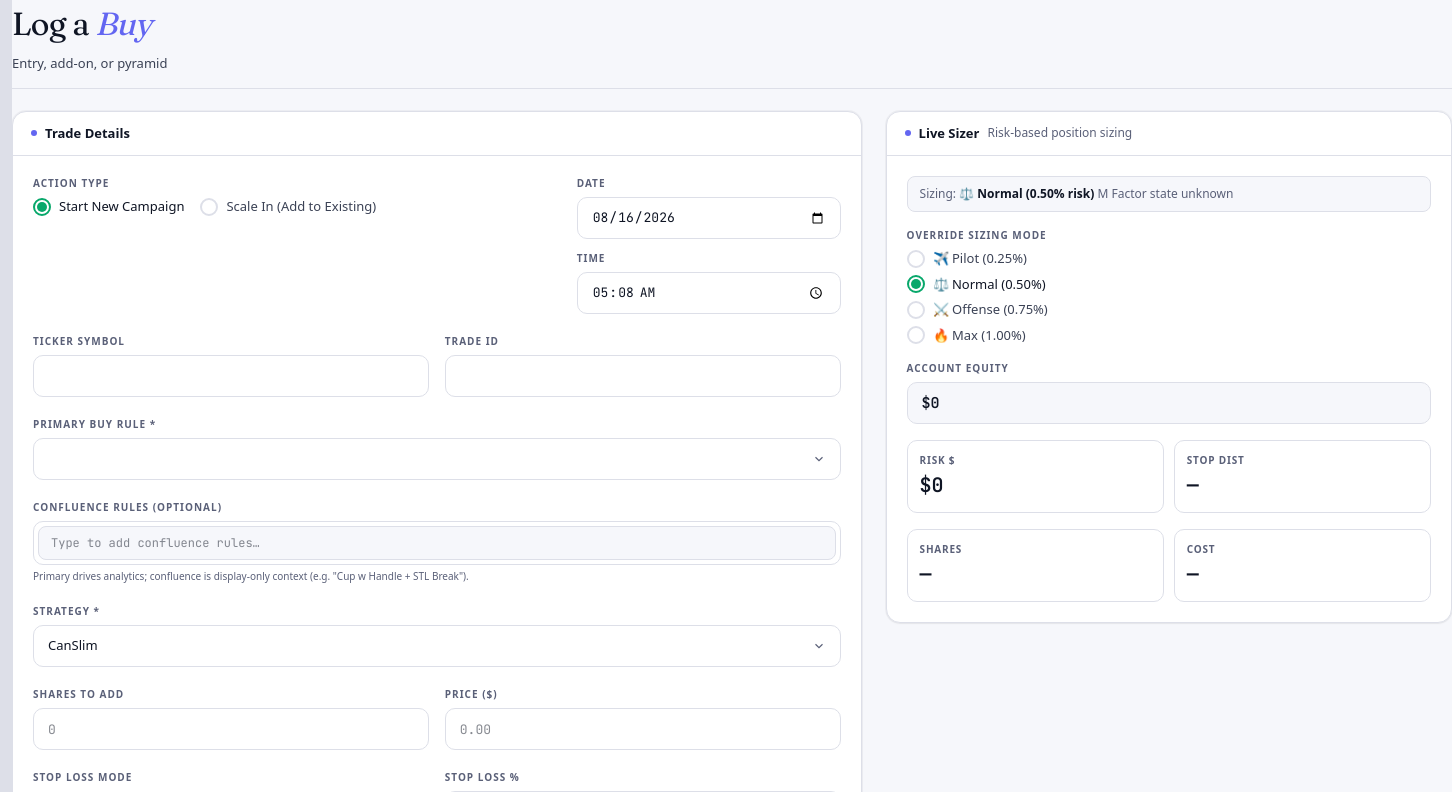
it: LogBuy — read-only MCT-driven sizing mode › 'Reset to MCT' restores the auto-derived mode
The width and height of the screenshot is (1452, 792).
Override to Pilot first (was Defense pre-retier)
Click the text "✈️ Pilot (0.25%)". click: (980, 259)
box: [933,249,1027,268]
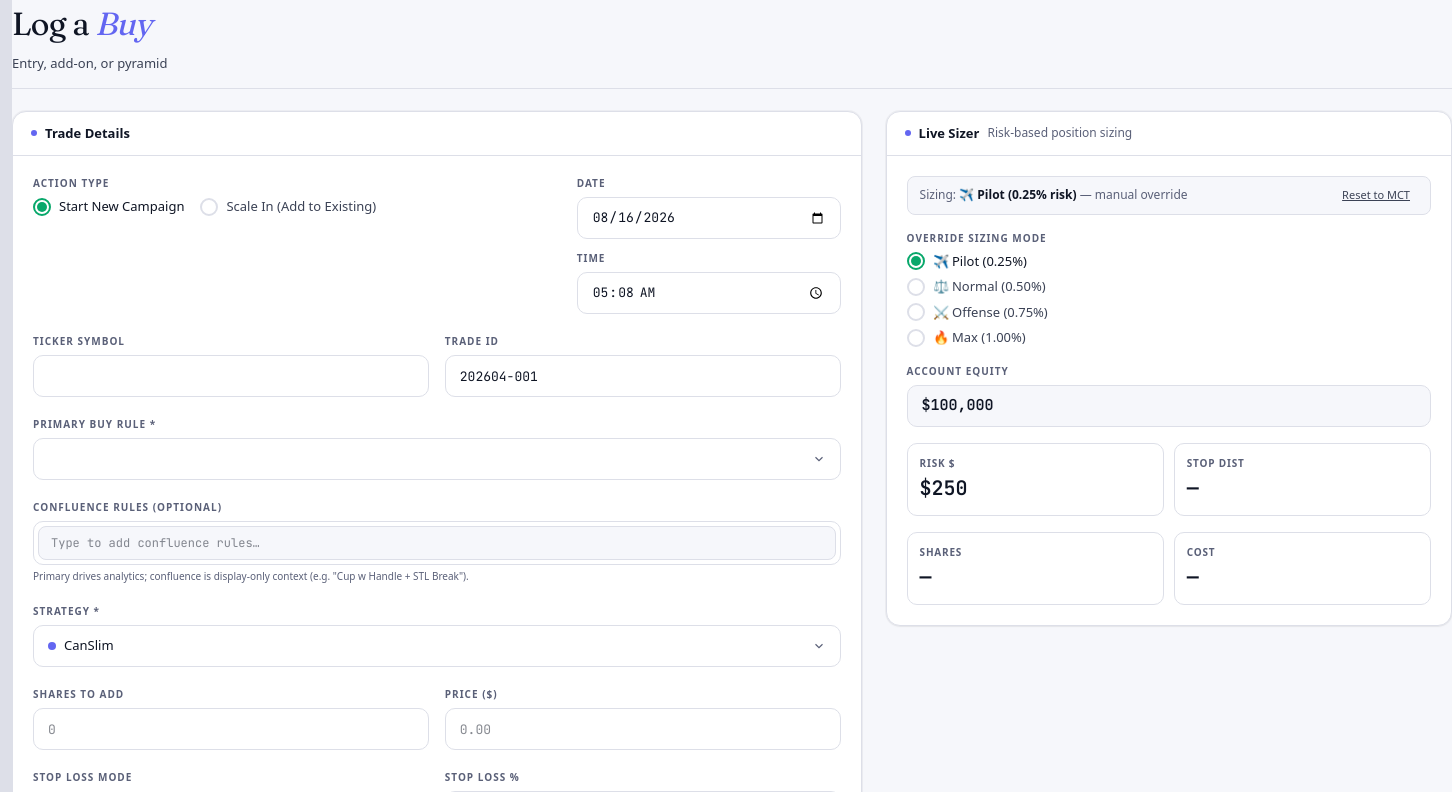
Click the button with test id "logbuy-reset-to-mct". click: (1376, 195)
box: [1334,185,1418,206]
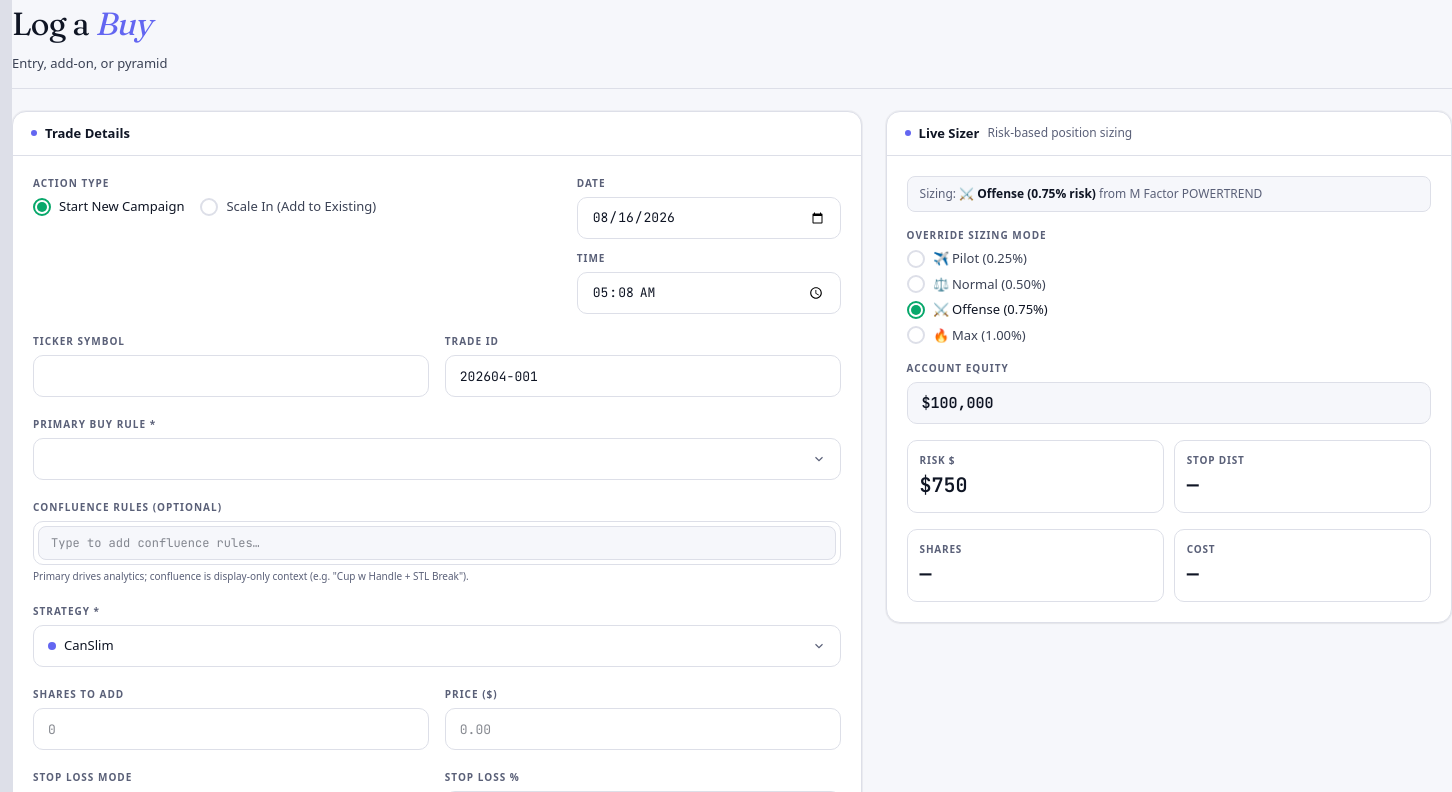
Now the element with test id "logbuy-sizing-mode-indicator" shows "Offense", box [977,185,1024,202]
Now the element with test id "logbuy-sizing-mode-indicator" shows "0.75% risk", box [907,176,1431,212]
Now the element with test id "logbuy-sizing-mode-indicator" shows "from M Factor POWERTREND", box [1099,185,1262,202]
